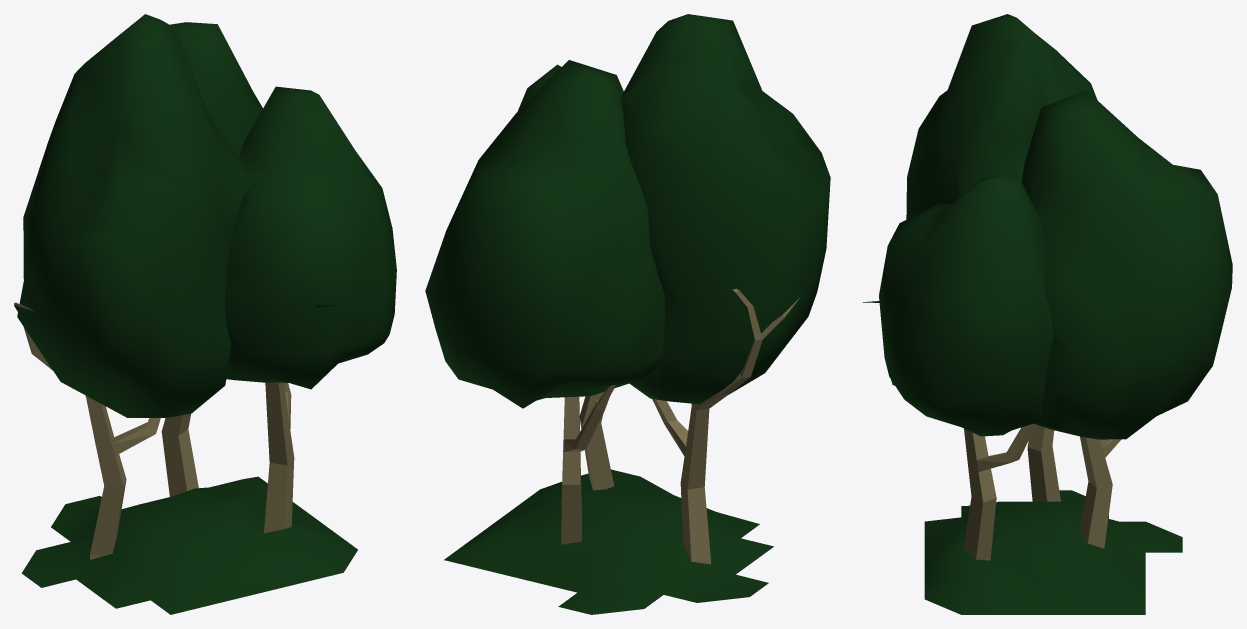
Rendered from Birch.FBX.
The picture shows the model from 3 angles, left to right: view 1: azimuth 30°, elevation 25°; view 2: azimuth 150°, elevation 25°; view 3: azimuth 270°, elevation 25°; orthographic projection. The views are drawn at different scales.
Parts seen in each view (by area): view 1: Box001, underground; view 2: Box001, underground; view 3: Box001, underground.
Part boxes in pixels (left/top/right/bottom): Box001: left=14, top=14, right=396, bottom=559; underground: left=21, top=476, right=357, bottom=614; Box001: left=425, top=14, right=830, bottom=564; underground: left=444, top=469, right=773, bottom=614; Box001: left=862, top=14, right=1232, bottom=560; underground: left=924, top=490, right=1182, bottom=614.
Bounding box in the file's own units: 102 × 161 × 106.
